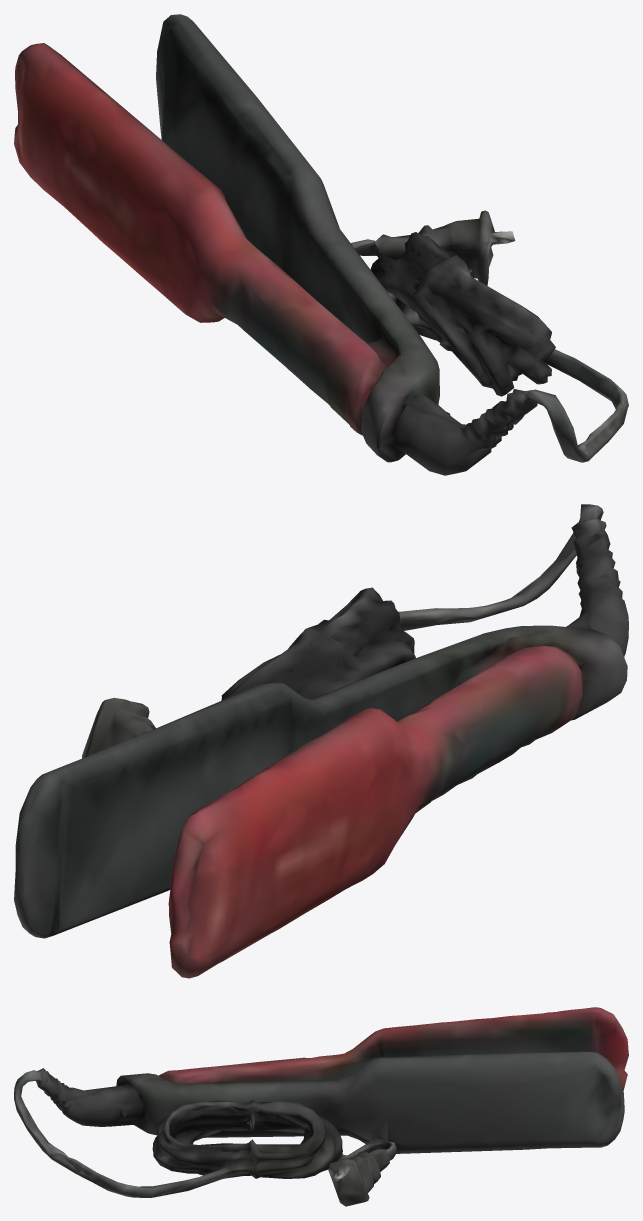
The model's file is Remington_TStudio_Silk_Ceramic_Hair_Straightener_2_Inch_Floating_Plates-medium.glb.
3 views of the same model, one above another, from view 1: azimuth 30°, elevation 25°; view 2: azimuth 150°, elevation 25°; view 3: azimuth 270°, elevation 25° (orthographic). The views are drawn at different scales.
Parts seen in each view (by area): view 1: Remington_TStudio_Silk_Ceramic_Hair_Straightener_2_Inch_Floa; view 2: Remington_TStudio_Silk_Ceramic_Hair_Straightener_2_Inch_Floa; view 3: Remington_TStudio_Silk_Ceramic_Hair_Straightener_2_Inch_Floa.
Boxes of the visible parts, left/top/right/bottom form: Remington_TStudio_Silk_Ceramic_Hair_Straightener_2_Inch_Floa: left=14, top=14, right=628, bottom=475; Remington_TStudio_Silk_Ceramic_Hair_Straightener_2_Inch_Floa: left=14, top=504, right=628, bottom=978; Remington_TStudio_Silk_Ceramic_Hair_Straightener_2_Inch_Floa: left=14, top=1007, right=628, bottom=1206.
Size of the model in its own units: 0.1237 by 0.066 by 0.3225.
1 material, 1 textured.
